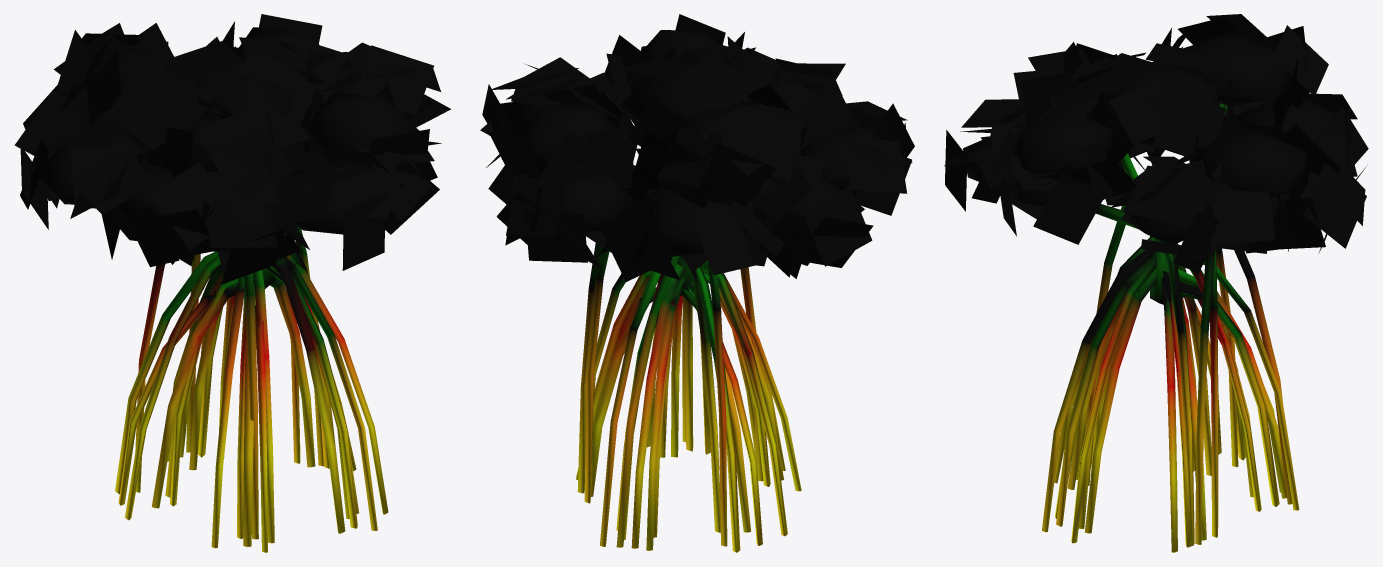
The model's file is mangrove_c_lo.glb.
The picture shows the model from 3 angles, left to right: view 1: azimuth 30°, elevation 25°; view 2: azimuth 150°, elevation 25°; view 3: azimuth 270°, elevation 25°; orthographic projection. The views are drawn at different scales.
Parts seen in each view (by area): view 1: mangrove_c_lo; view 2: mangrove_c_lo; view 3: mangrove_c_lo.
Part boxes in pixels (left/top/right/bottom): mangrove_c_lo: left=14, top=14, right=450, bottom=552; mangrove_c_lo: left=480, top=14, right=914, bottom=552; mangrove_c_lo: left=944, top=14, right=1368, bottom=552.
Bounding box in the file's own units: 8.45 × 8.95 × 7.8.
